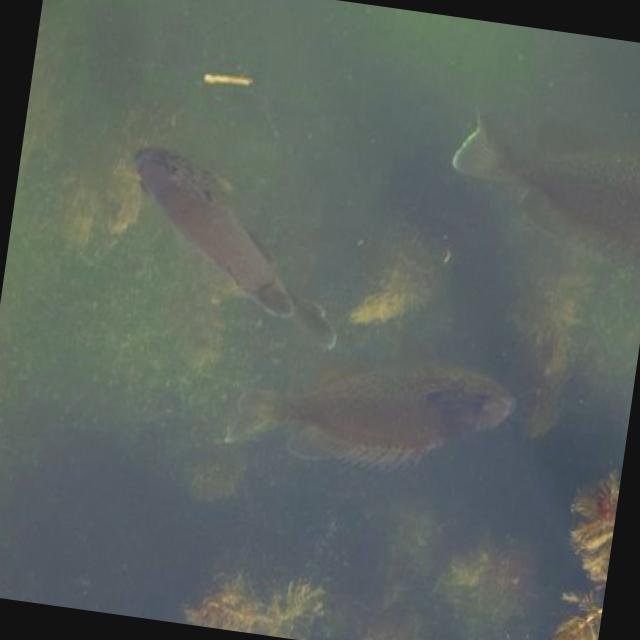Gunes Levregi: (215, 316, 535, 498)
